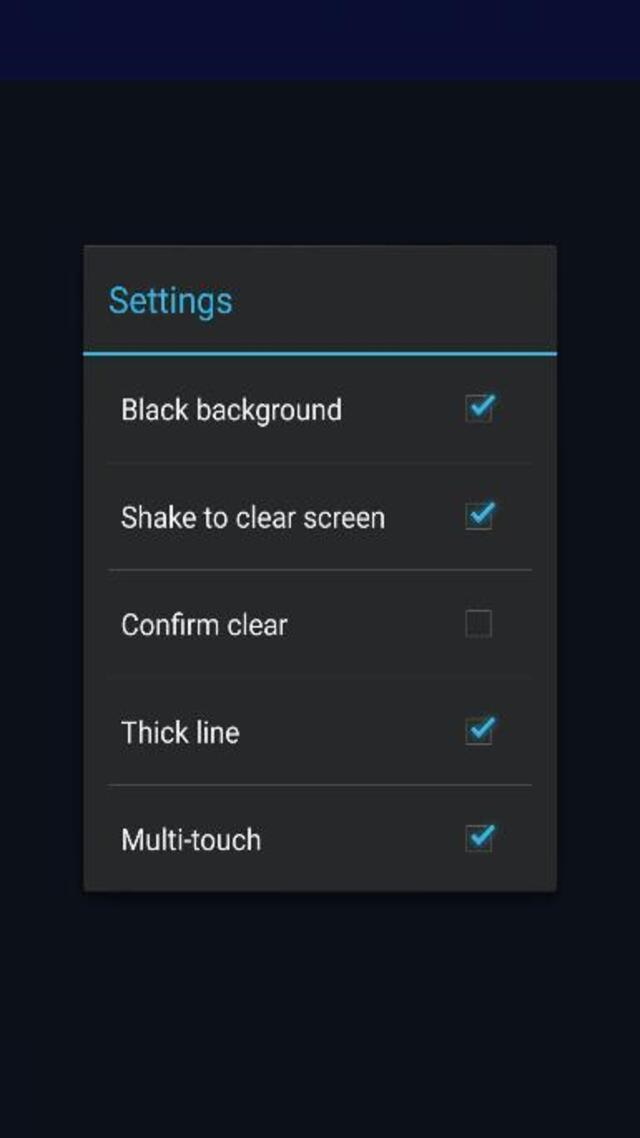CheckedTextView: (123, 394, 494, 426), (123, 610, 492, 638), (123, 502, 495, 529), (123, 824, 495, 851), (121, 718, 494, 744)
Text: (122, 398, 340, 427), (121, 504, 384, 527), (110, 287, 232, 321), (122, 614, 287, 634), (122, 828, 260, 851), (121, 720, 238, 742)
